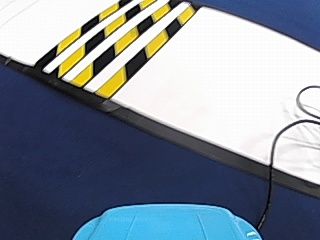bump: (40, 8, 168, 95)
